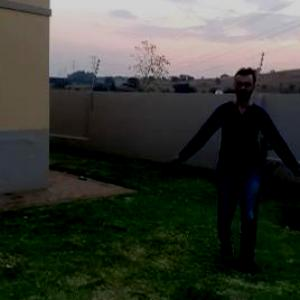land: (180, 64, 299, 279)
